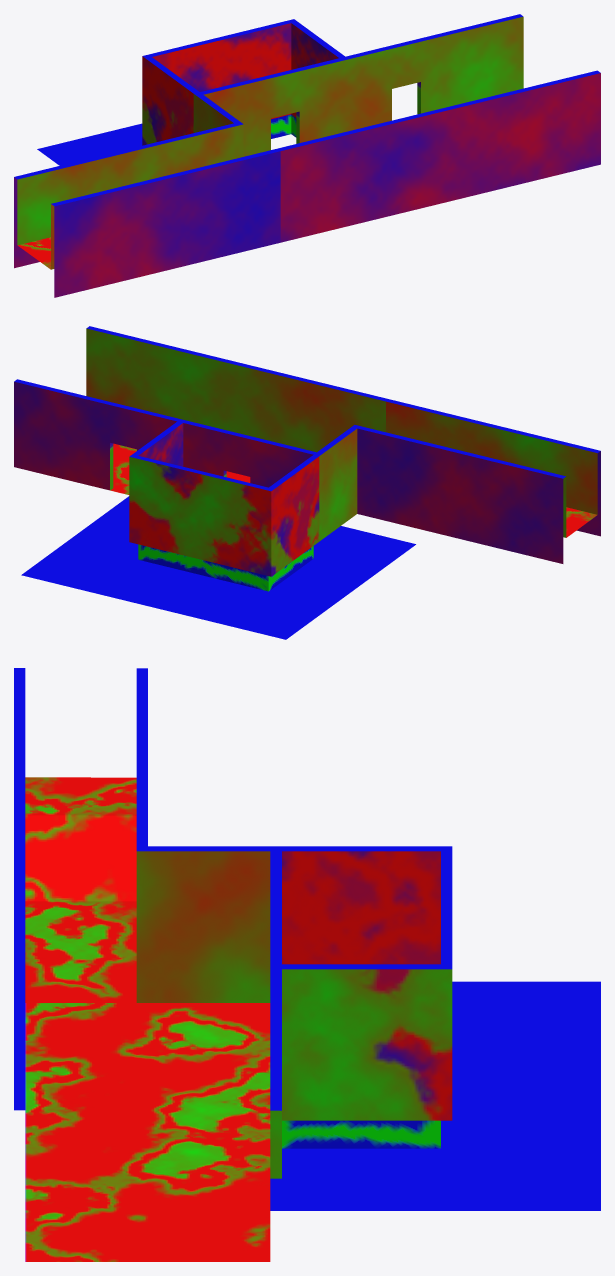
File: Room.fbx
The picture shows the model from 3 angles, top to bottom: view 1: azimuth 30°, elevation 25°; view 2: azimuth 150°, elevation 25°; view 3: azimuth 270°, elevation 25°; orthographic projection. The views are drawn at different scales.
Parts seen in each view (by area): view 1: Walls0, Walls1, Floor0, Floor1; view 2: Walls0, Floor1, Walls1, Floor0; view 3: Floor0, Floor1, Walls1, Walls0.
Boxes of the visible parts, x1=… form: Walls0: x1=14, y1=16, x2=600, y2=297; Walls1: x1=142, y1=23, x2=338, y2=145; Floor0: x1=14, y1=14, x2=600, y2=269; Floor1: x1=37, y1=19, x2=344, y2=165; Walls0: x1=14, y1=328, x2=600, y2=563; Floor1: x1=21, y1=421, x2=415, y2=639; Walls1: x1=129, y1=423, x2=319, y2=576; Floor0: x1=14, y1=326, x2=600, y2=537; Floor0: x1=14, y1=668, x2=281, y2=1261; Floor1: x1=270, y1=846, x2=600, y2=1210; Walls1: x1=282, y1=851, x2=452, y2=1120; Walls0: x1=136, y1=851, x2=281, y2=1178.
Bounding box in the file's own units: 21.88 × 4.26 × 12.28.
Materials: 4 (4 with a texture image).
